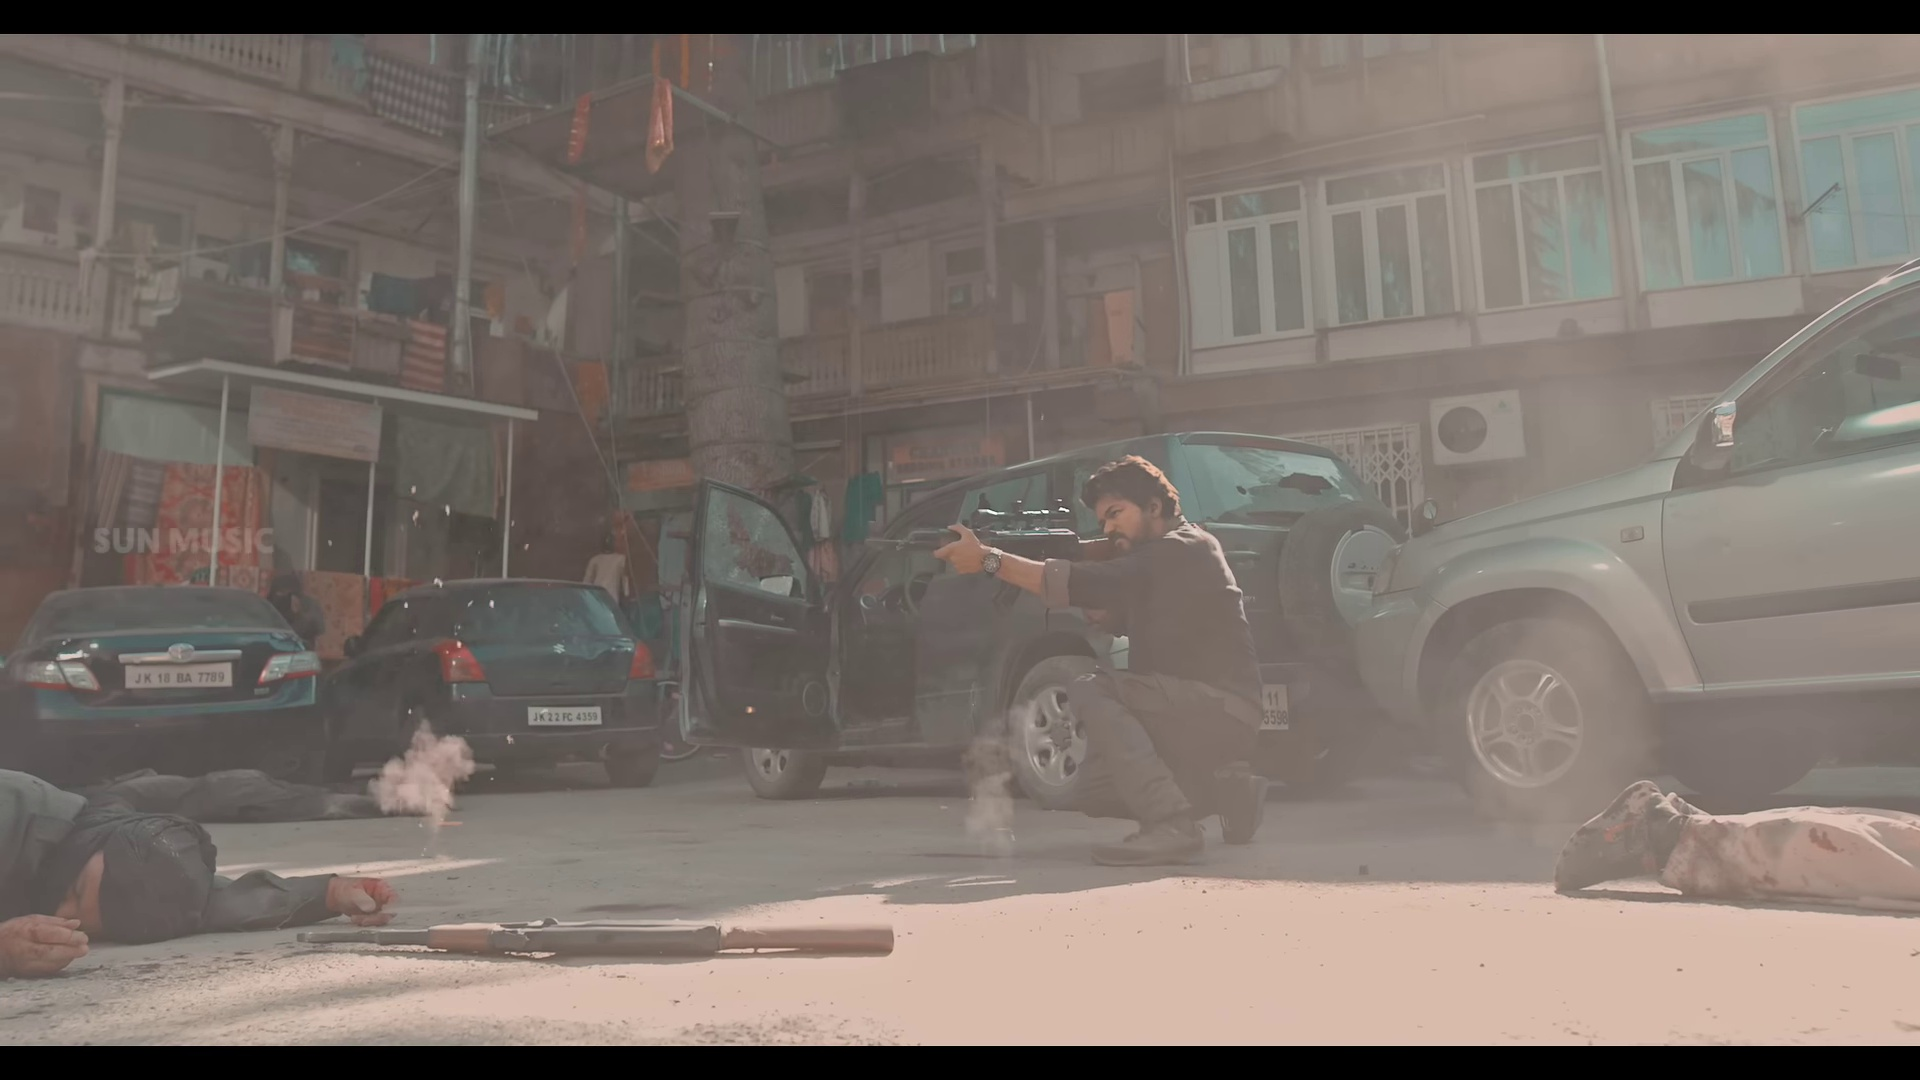gun: (290, 903, 899, 965), (856, 492, 1133, 580)
p_w_gun: (851, 451, 1275, 873)
p_wo_gun_not_carrying_normal_pose: (0, 769, 400, 996)
